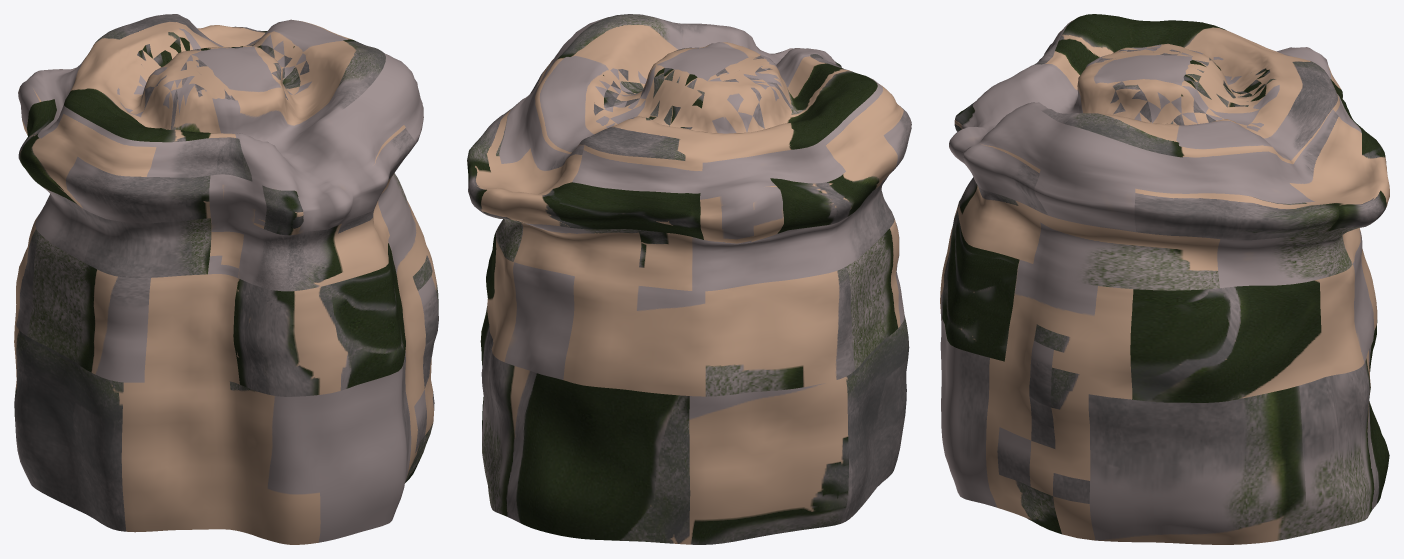
File: SM_Island3.1_L.fbx
The picture shows the model from 3 angles, left to right: view 1: azimuth 30°, elevation 25°; view 2: azimuth 150°, elevation 25°; view 3: azimuth 270°, elevation 25°; orthographic projection.
Parts seen in each view (by area): view 1: Line011; view 2: Line011; view 3: Line011.
Boxes of the visible parts, <box> form: Line011: <box>14,14,438,544</box>; Line011: <box>467,14,911,544</box>; Line011: <box>940,14,1389,544</box>.
Bounding box in the file's own units: 2180 × 2304 × 2323.
